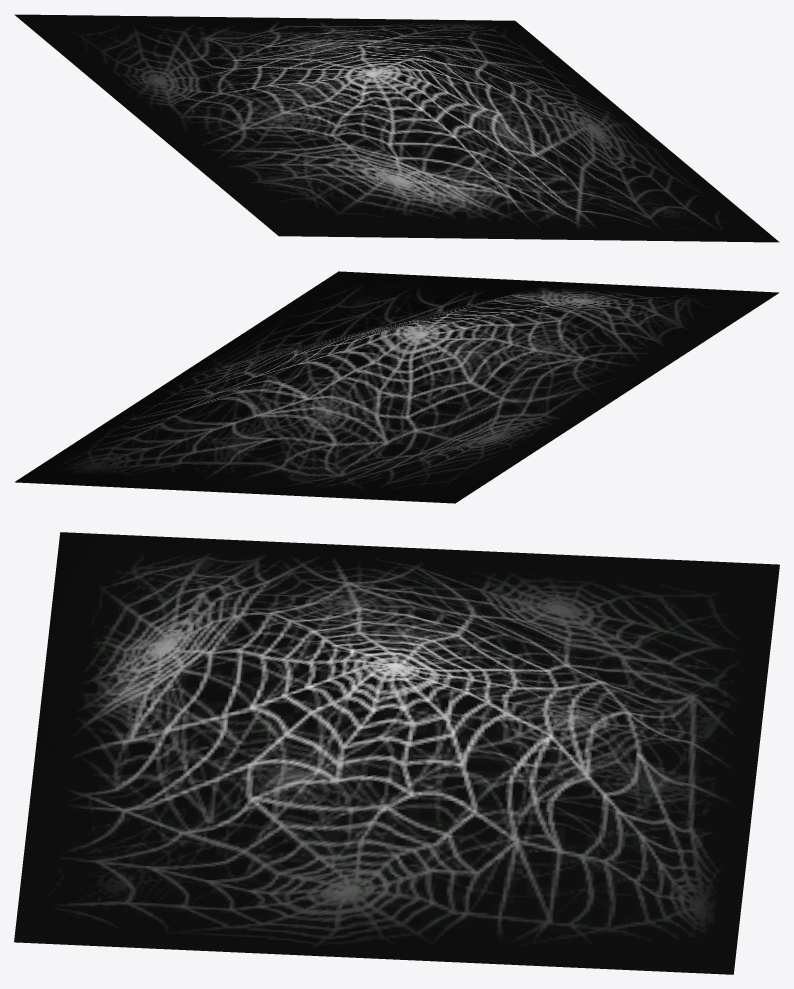
The model's file is MIRKWOOD_PLANE17.fbx.
The picture shows the model from 3 angles, top to bottom: view 1: azimuth 30°, elevation 25°; view 2: azimuth 150°, elevation 25°; view 3: azimuth 270°, elevation 25°; orthographic projection. The views are drawn at different scales.
Parts seen in each view (by area): view 1: MIRKWOOD_PLANE17; view 2: MIRKWOOD_PLANE17; view 3: MIRKWOOD_PLANE17.
Part boxes in pixels (left/top/right/bottom): MIRKWOOD_PLANE17: left=14, top=14, right=779, bottom=242; MIRKWOOD_PLANE17: left=14, top=271, right=779, bottom=503; MIRKWOOD_PLANE17: left=14, top=532, right=779, bottom=974.
Bounding box in the file's own units: 162770 × 36230 × 174648.
1 material, 1 textured.
